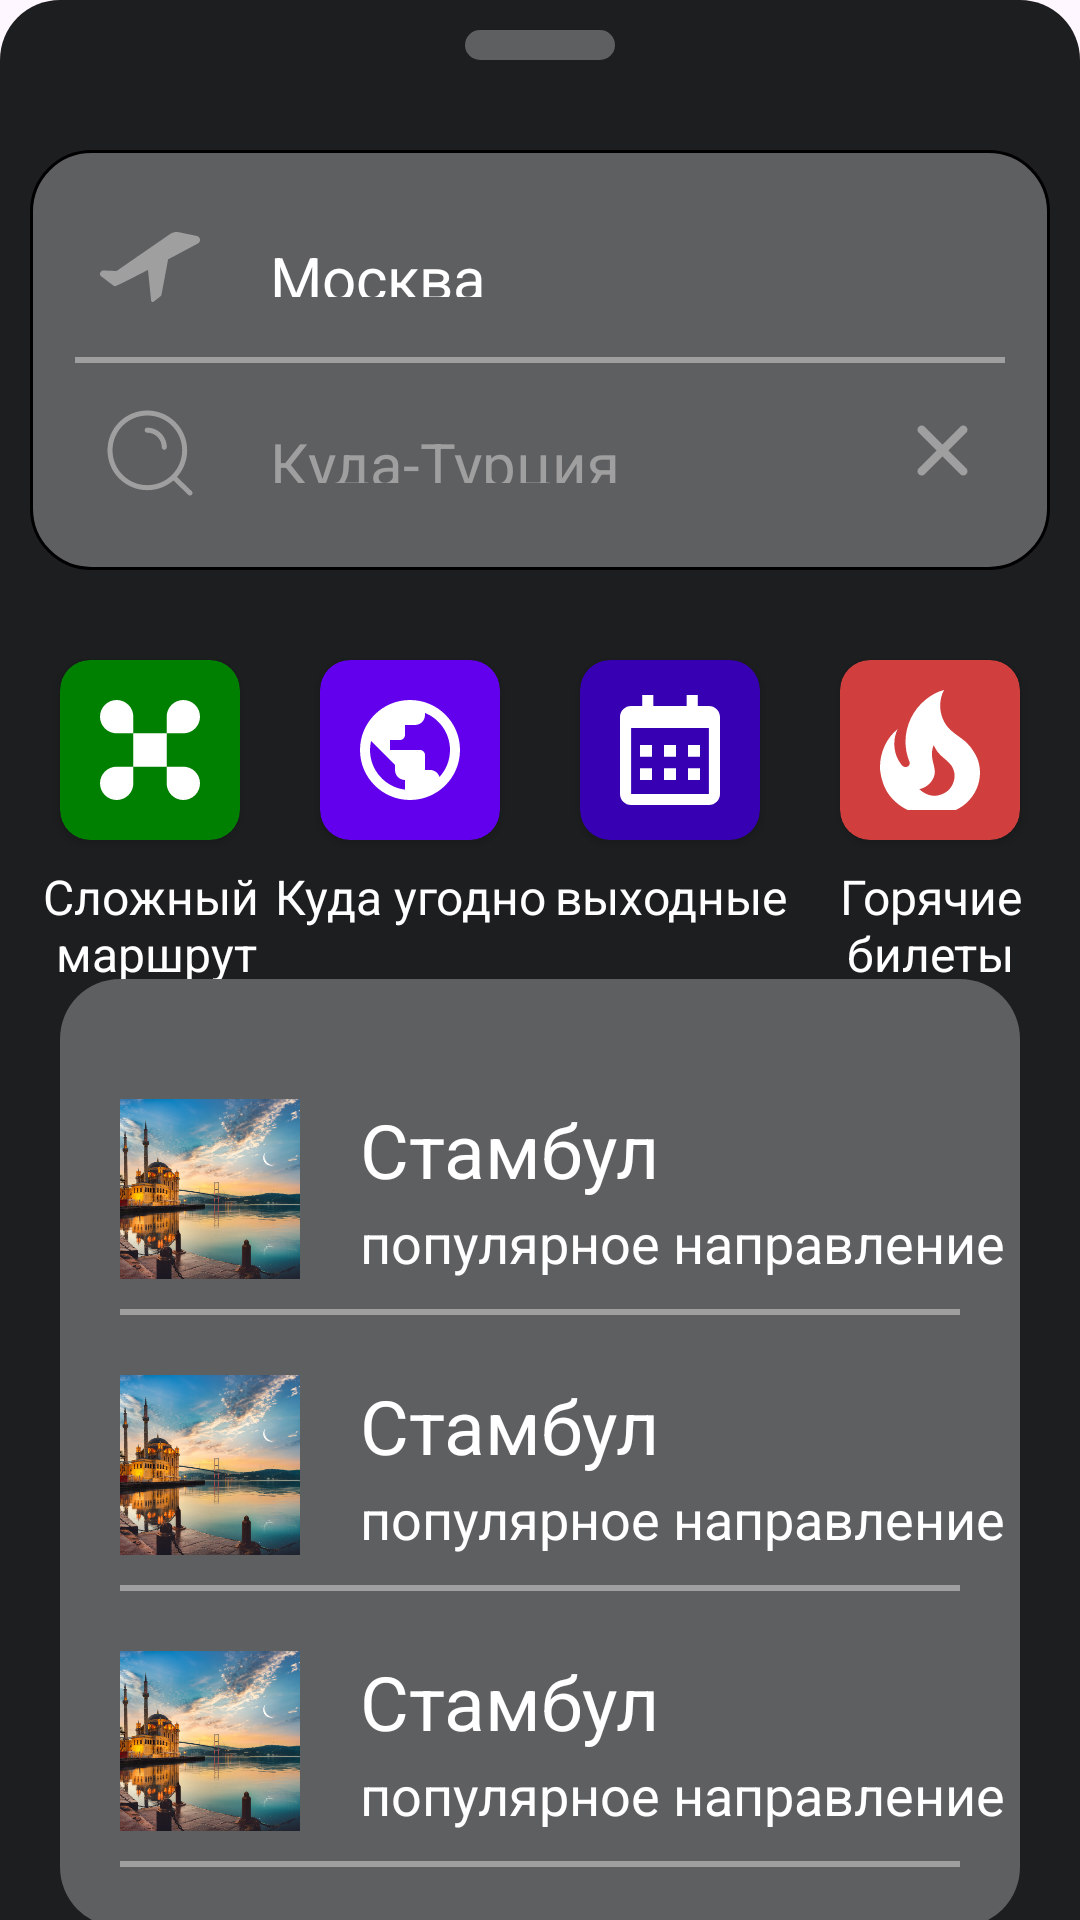

Icon bounding boxes for this 1080px×1920px phone screenshot, format (x1, y1, x2, y2):
calendar: (620, 695, 720, 805)
delete: (917, 425, 968, 476)
fire: (880, 690, 980, 810)
fly: (100, 232, 200, 302)
one city: (120, 1099, 300, 1279), (120, 1375, 300, 1555), (120, 1651, 300, 1831)
search: (107, 410, 193, 496)
